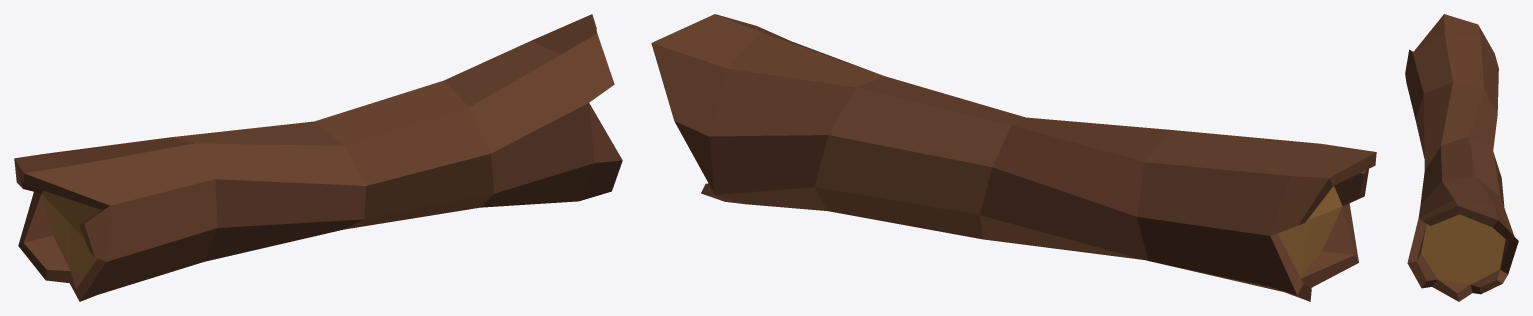
The model's file is trunk_01.fbx.
3 renders of one model, left to right at view 1: azimuth 30°, elevation 25°; view 2: azimuth 150°, elevation 25°; view 3: azimuth 270°, elevation 25°, orthographic. The views are drawn at different scales.
Visible parts, largest first — view 1: Trunk; view 2: Trunk; view 3: Trunk.
Boxes of the visible parts, bbox=[...] form: Trunk: bbox=[14, 14, 622, 301]; Trunk: bbox=[651, 14, 1376, 301]; Trunk: bbox=[1405, 14, 1518, 301].
Bounding box in the file's own units: 2.38 × 0.6306 × 0.5919.
